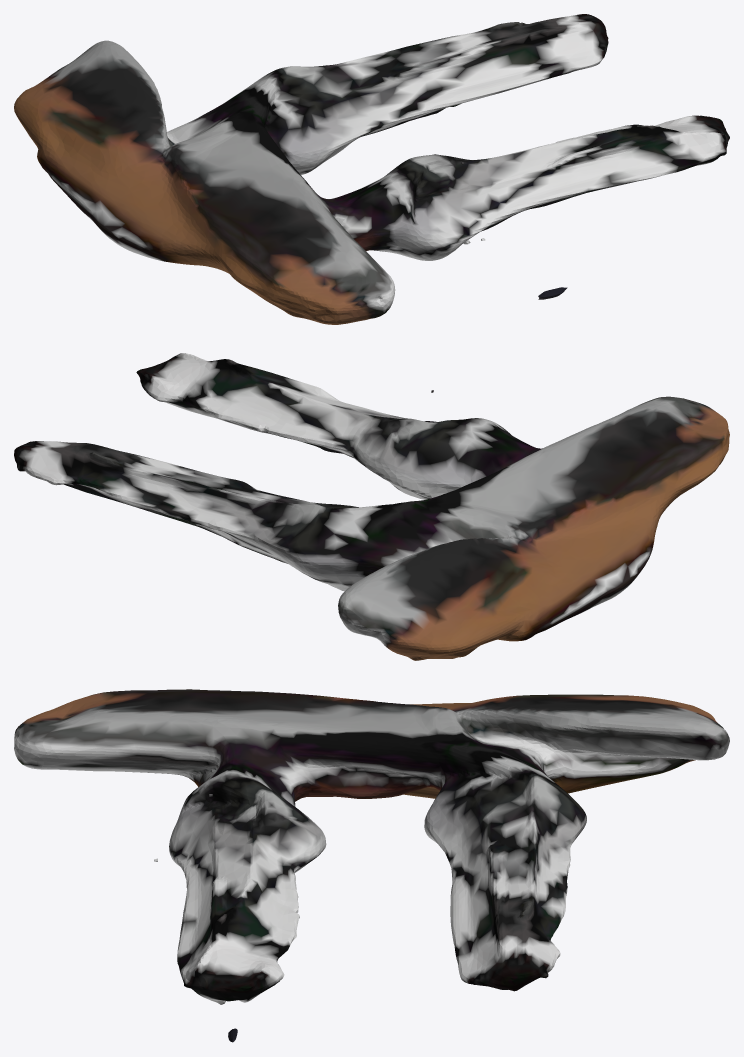
Rendered from punch_dagger.glb.
3 renders of one model, top to bottom at view 1: azimuth 30°, elevation 25°; view 2: azimuth 150°, elevation 25°; view 3: azimuth 270°, elevation 25°, orthographic. The views are drawn at different scales.
Parts seen in each view (by area): view 1: geometry_0; view 2: geometry_0; view 3: geometry_0.
Part boxes in pixels (box(x1,y1,x2,y2)): geometry_0: box(14, 14, 729, 324); geometry_0: box(14, 353, 729, 660); geometry_0: box(14, 689, 729, 1042).
Size of the model in its own units: 0.9688 by 0.2823 by 0.9598.
